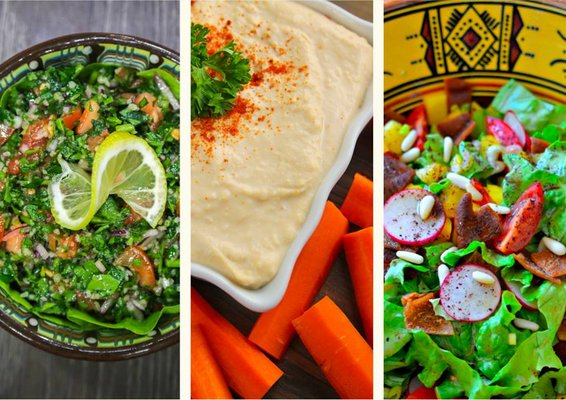curry: (191, 22, 252, 119)
sushi: (383, 7, 566, 396), (0, 24, 181, 371), (189, 1, 374, 311)
